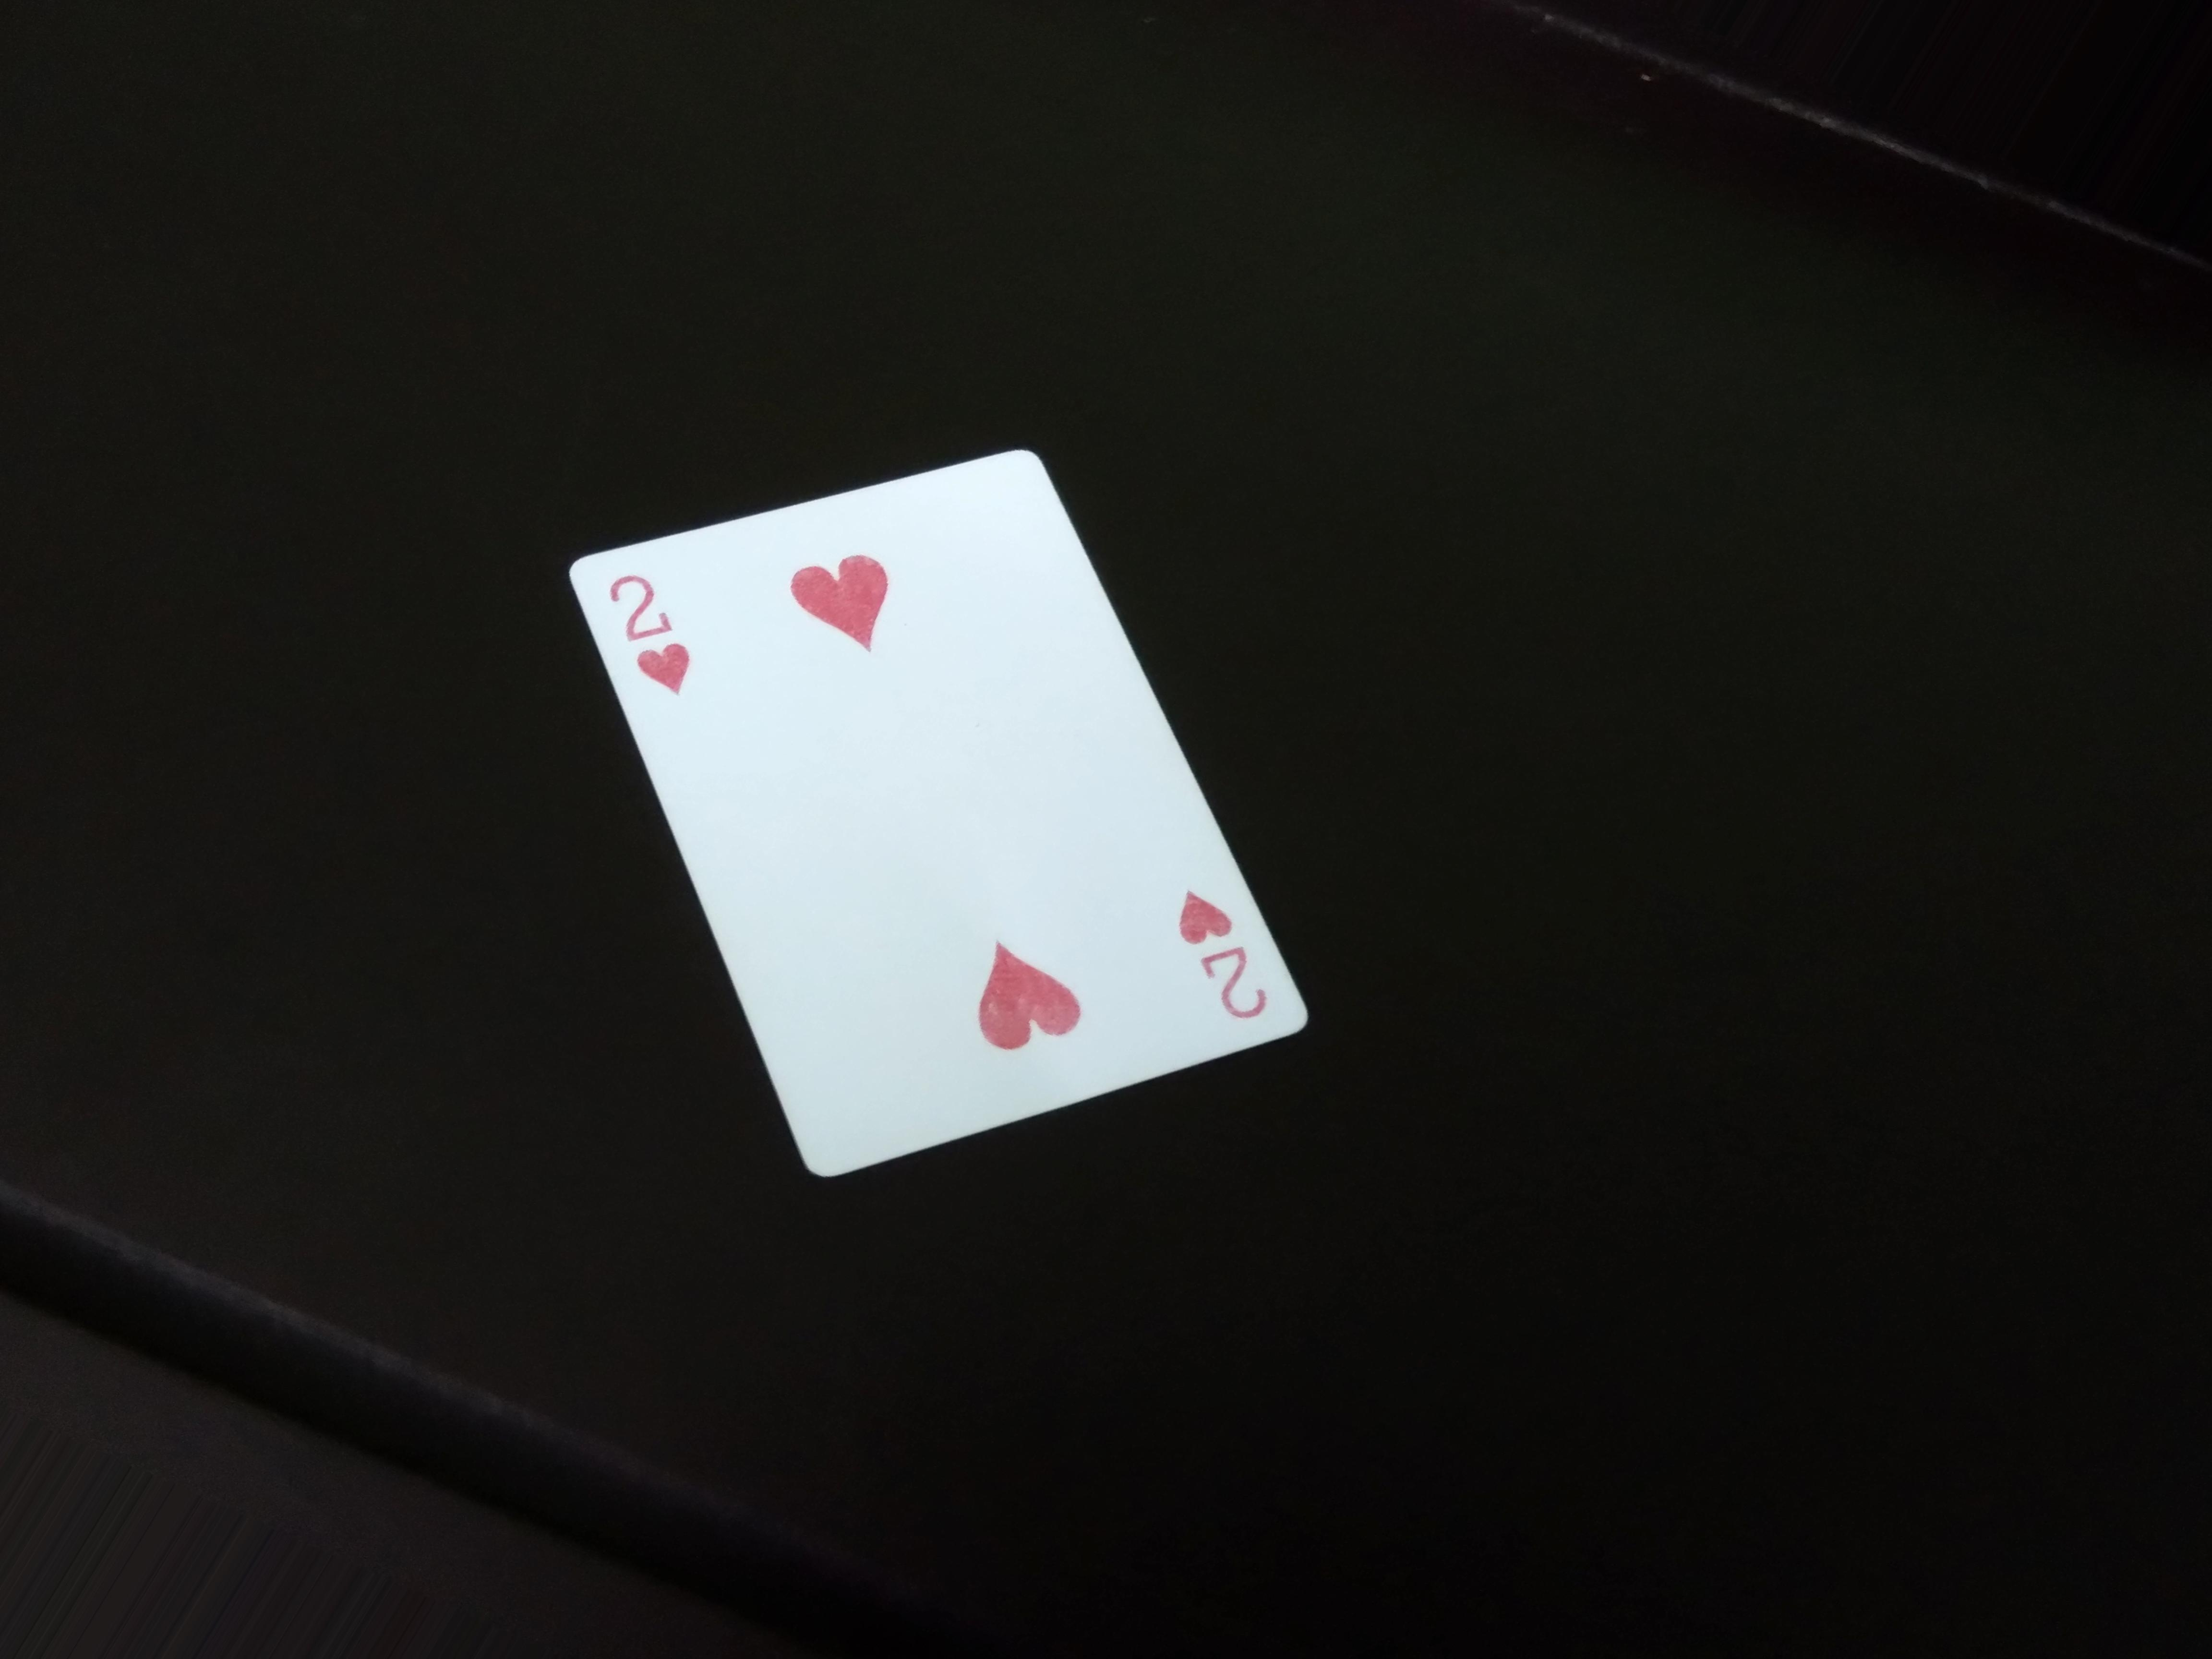2H: (587, 568, 718, 721)
